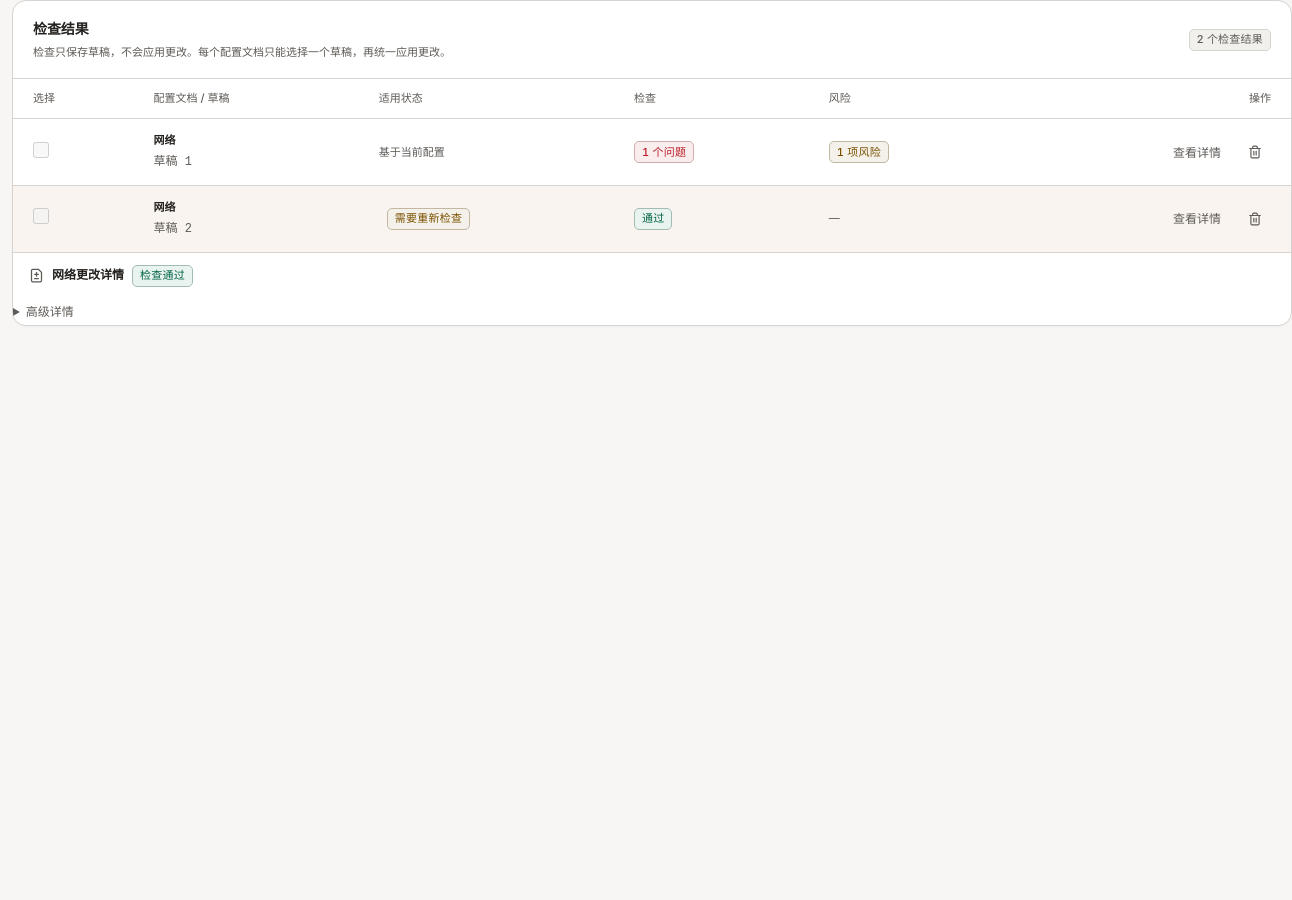
it: configuration transaction copy › keeps invalid and stale draft semantics readable with raw diagnostics optional
Expected: the checkbox named "选择网络草稿 1" is disabled, [33,142,49,158]
Expected: the checkbox named "选择网络草稿 2" is disabled, [33,208,49,224]
Click the button with aria-label "查看网络草稿 1详情" at (1197, 152), box [1163,138,1231,167]
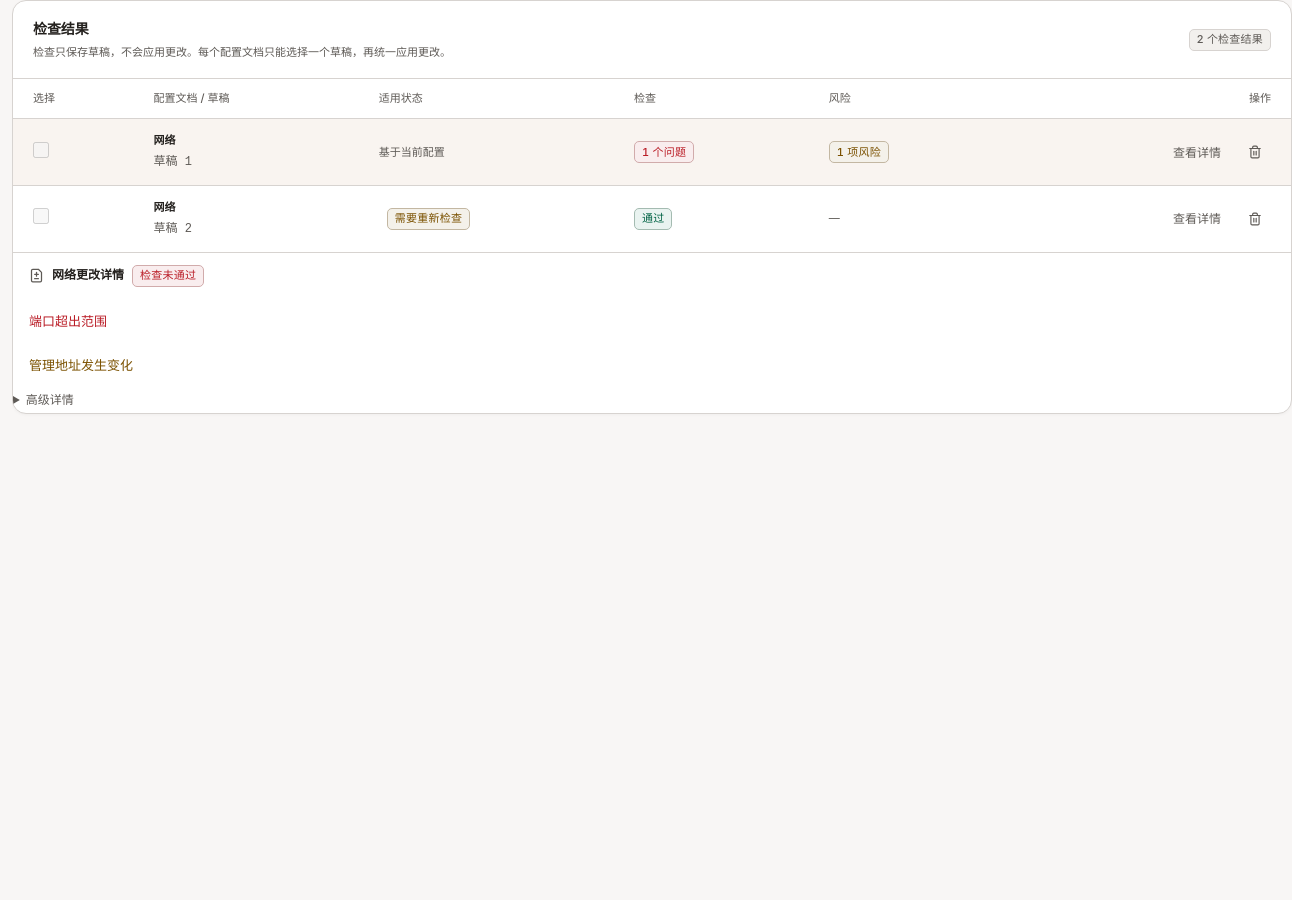
Expected: the text "invalid_port" is not shown
Result: the text "端口超出范围" is shown at [29,311,107,331]
Result: the text "管理地址发生变化" is shown at [29,355,133,375]
Click the heading "高级详情" at (50, 399), box [26,392,74,407]
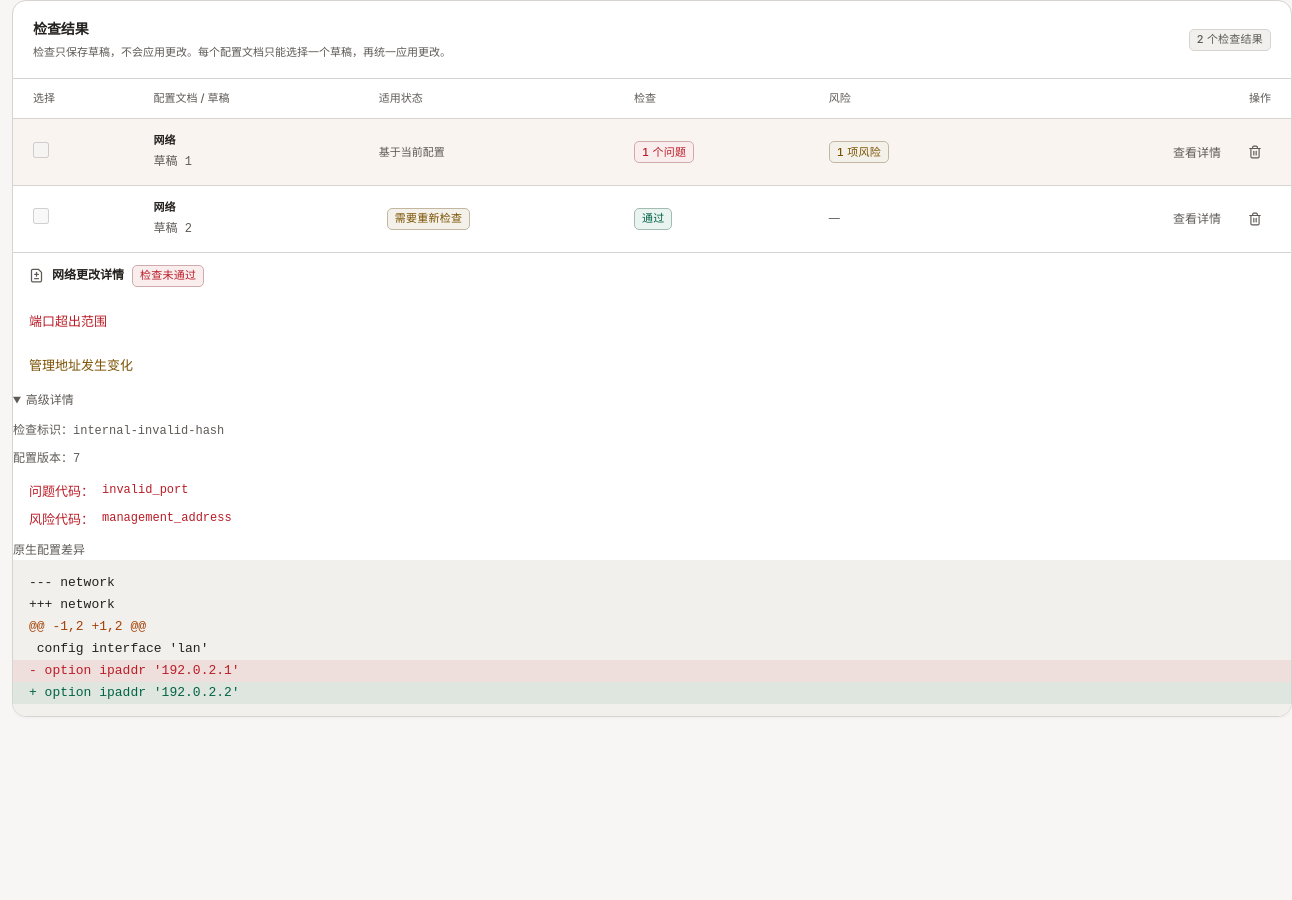
Result: the text "invalid_port" is shown at [102,481,188,501]
Result: the element with test id "configuration-diff" is shown at [13,560,1291,716]
